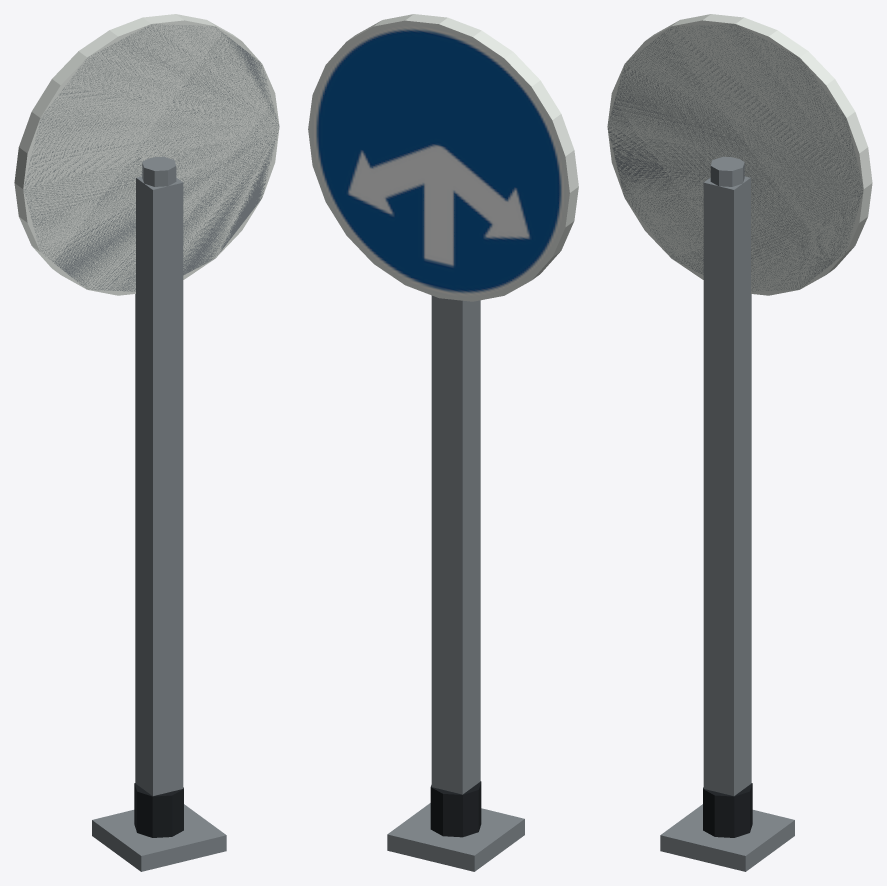
Rendered from direction-sign-hl-hr.glb.
3 views of the same model, side by side, from view 1: azimuth 30°, elevation 25°; view 2: azimuth 150°, elevation 25°; view 3: azimuth 330°, elevation 25° (orthographic). The views are drawn at different scales.
Parts seen in each view (by area): view 1: direction-sign-hl-hr (×2); view 2: direction-sign-hl-hr (×2); view 3: direction-sign-hl-hr (×2).
Boxes of the visible parts, <box> form: direction-sign-hl-hr (×2): <box>14,14,279,871</box>; direction-sign-hl-hr (×2): <box>308,14,578,871</box>; direction-sign-hl-hr (×2): <box>607,14,872,871</box>.
Bounding box in the file's own units: 2.35 × 7.14 × 0.784.
Materials: 4 (1 with a texture image).
